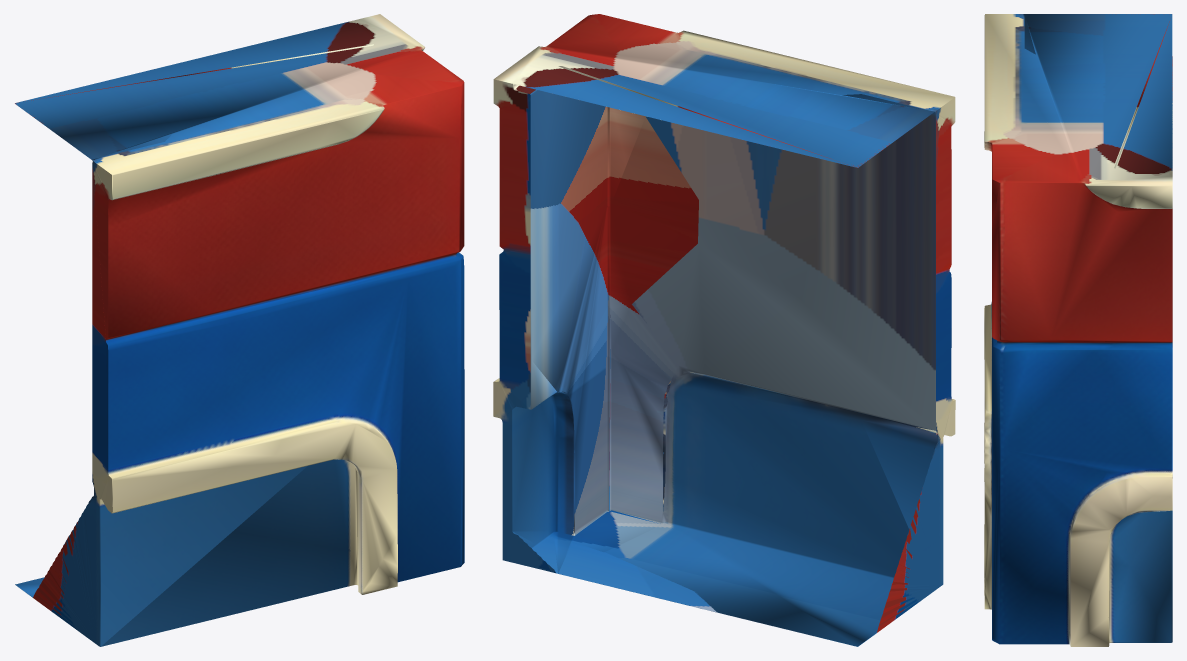
File: 6-upper-walls-front-right.fbx
The picture shows the model from 3 angles, left to right: view 1: azimuth 30°, elevation 25°; view 2: azimuth 150°, elevation 25°; view 3: azimuth 270°, elevation 25°; orthographic projection. The views are drawn at different scales.
Parts seen in each view (by area): view 1: upper-walls-front-right; view 2: upper-walls-front-right; view 3: upper-walls-front-right.
Boxes of the visible parts, bbox=[...] form: upper-walls-front-right: bbox=[15, 14, 464, 646]; upper-walls-front-right: bbox=[493, 14, 955, 646]; upper-walls-front-right: bbox=[984, 14, 1172, 646].
Size of the model in its own units: 4801 by 6025 by 2226.
1 material, 1 textured.
